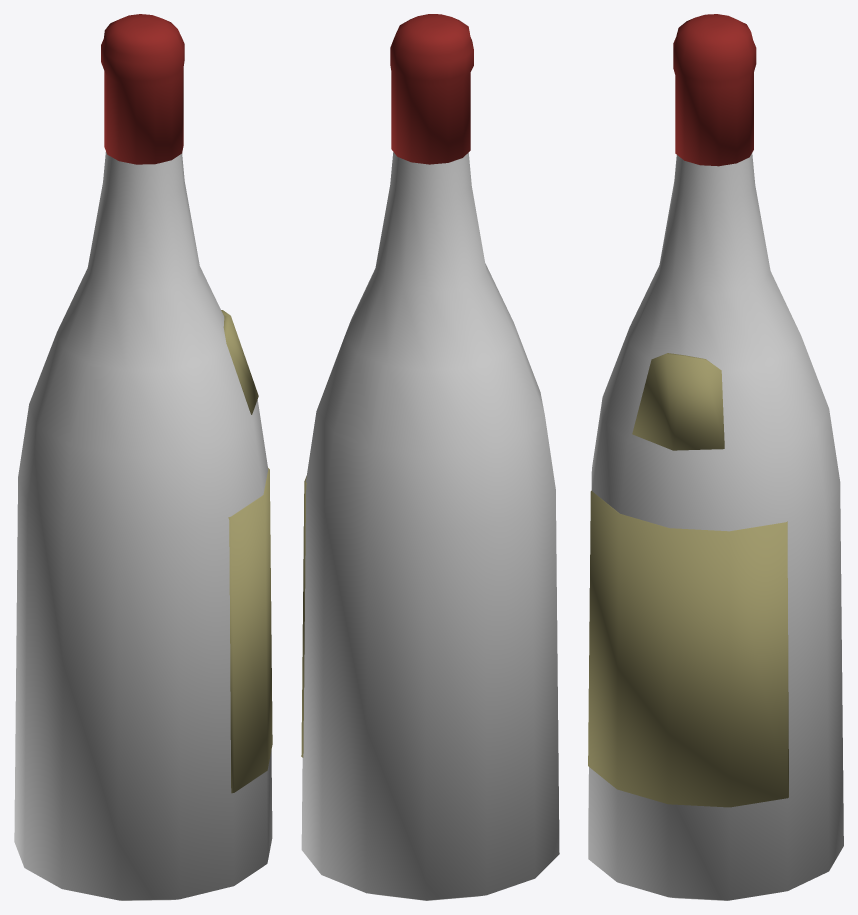
File: Bourgogne.fbx
The picture shows the model from 3 angles, left to right: view 1: azimuth 30°, elevation 25°; view 2: azimuth 150°, elevation 25°; view 3: azimuth 270°, elevation 25°; orthographic projection.
Parts seen in each view (by area): view 1: Verre, Etiquettes, Bouchon; view 2: Verre, Bouchon, Etiquettes; view 3: Verre, Etiquettes, Bouchon.
Boxes of the visible parts, x1,y1,x2,y2 form: Verre: (14,152,272,900); Etiquettes: (221,310,272,793); Bouchon: (101,14,184,164); Verre: (301,152,559,900); Bouchon: (390,14,473,164); Etiquettes: (301,476,306,757); Verre: (588,153,843,900); Etiquettes: (588,353,788,807); Bouchon: (673,14,756,166).
Bounding box in the file's own units: 199 × 707 × 197.
